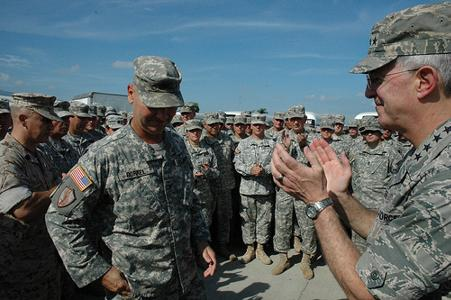person: (273, 1, 451, 300)
